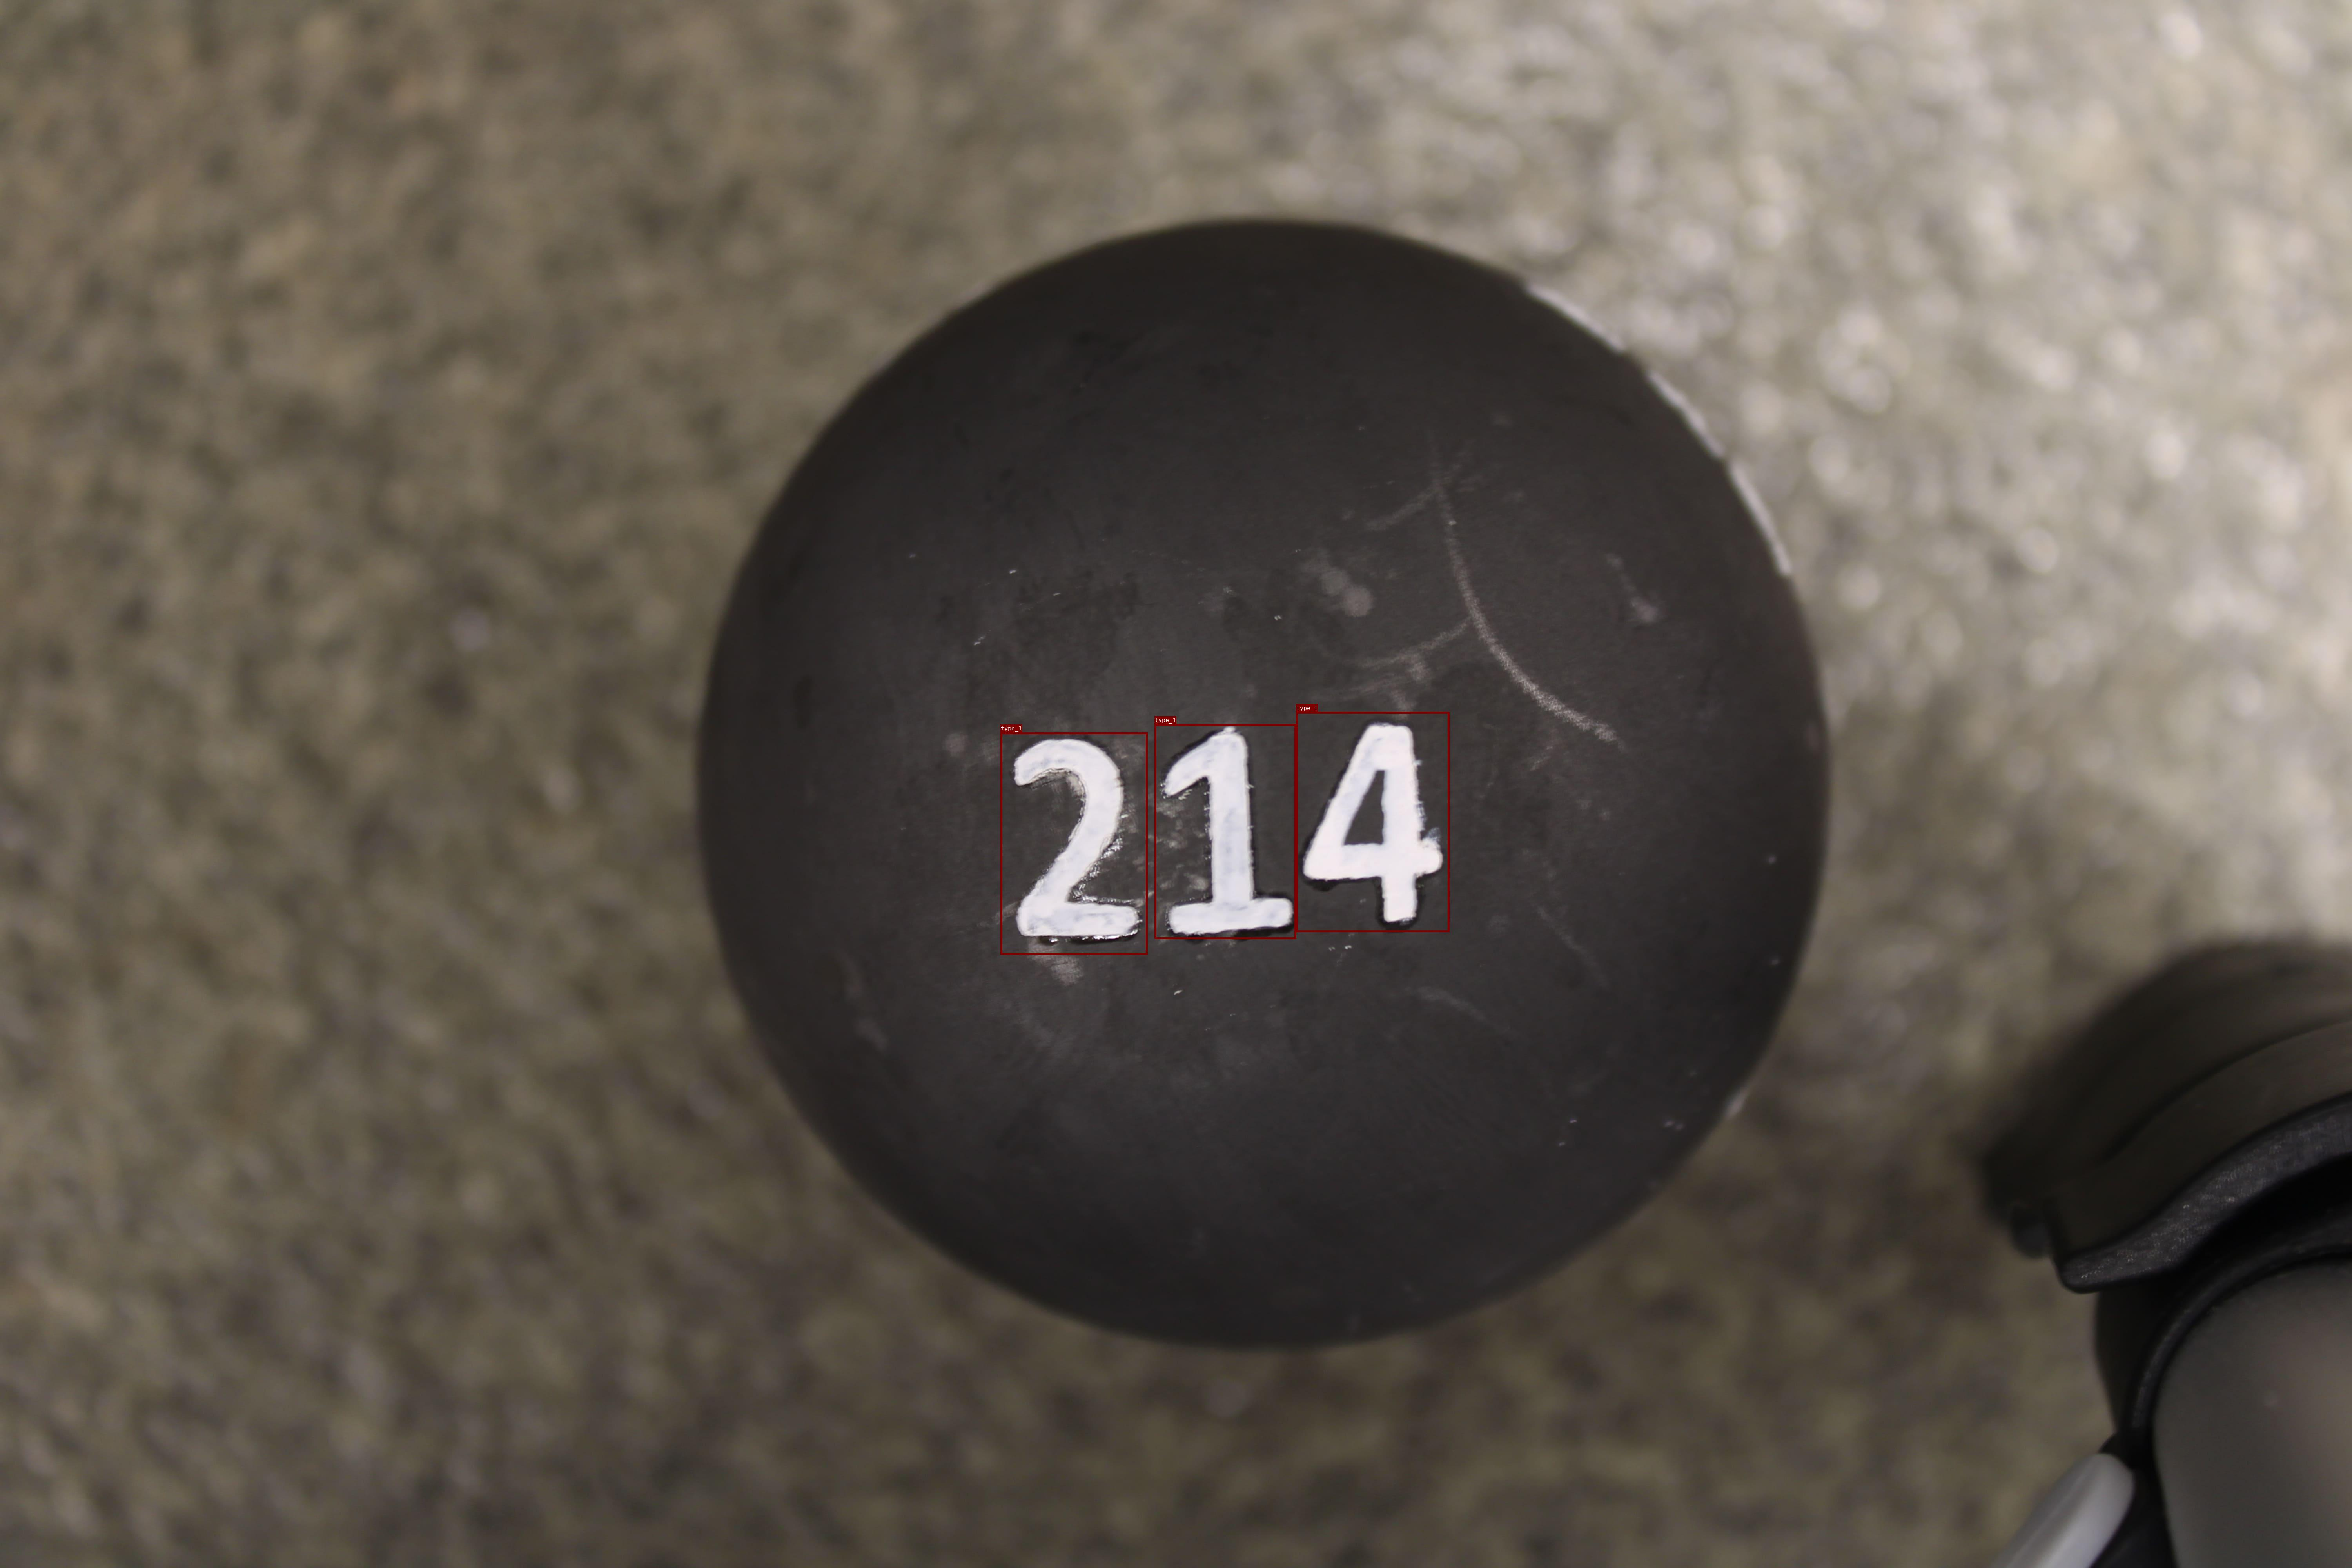type_1: (1297, 712, 1449, 931), (1001, 732, 1148, 954), (1155, 724, 1297, 938)
